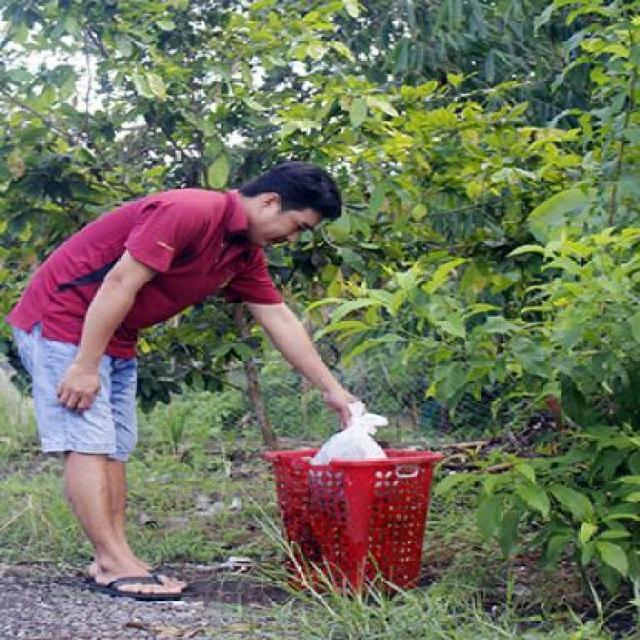plastic bag: (303, 398, 392, 482)
